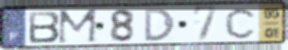7: (191, 4, 218, 44)
8: (109, 7, 136, 43)
B: (27, 10, 62, 45)
C: (224, 7, 259, 40)
D: (143, 8, 177, 43)
M: (56, 8, 101, 46)
